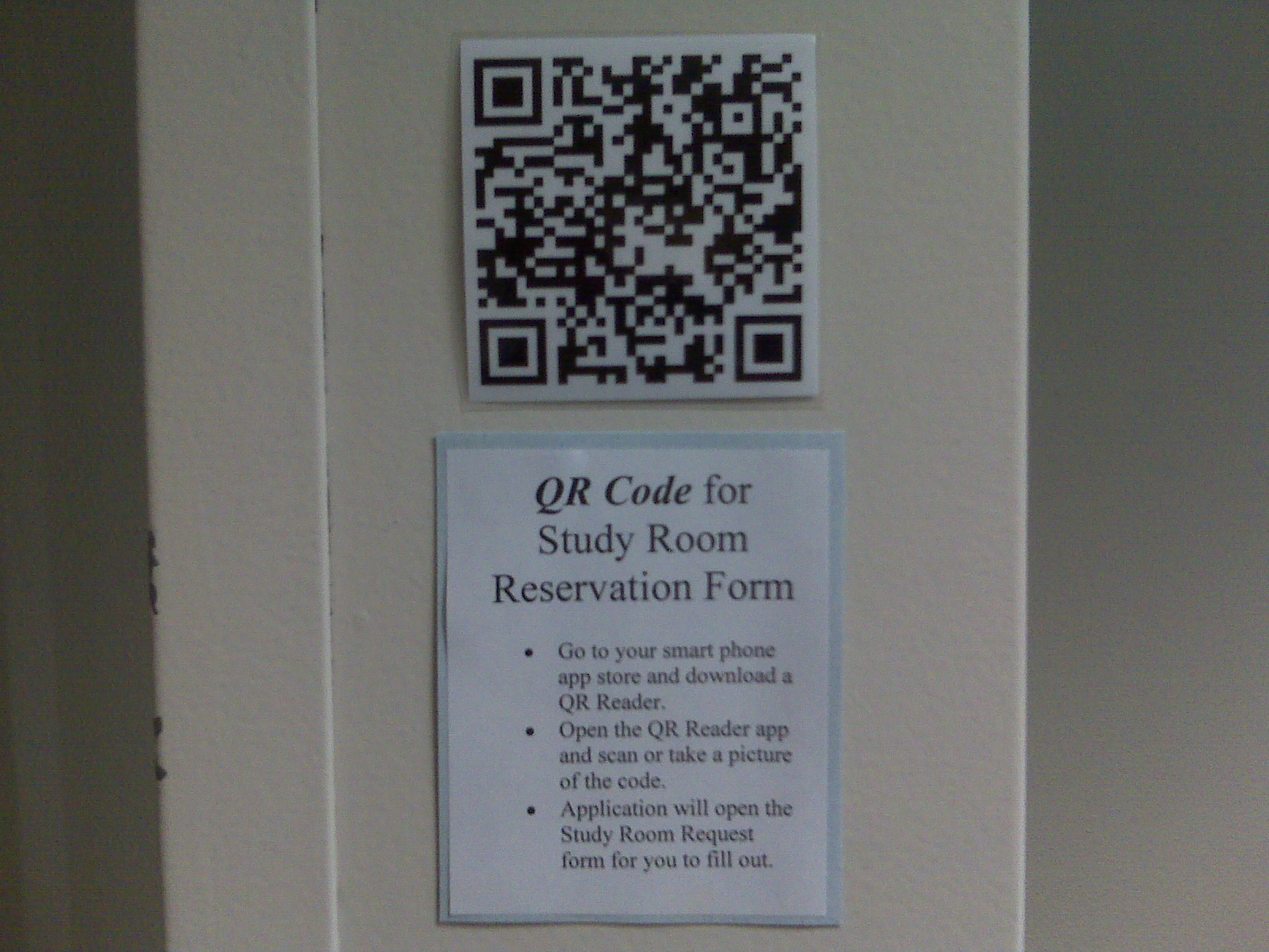QR-CODE: (473, 52, 801, 385)
